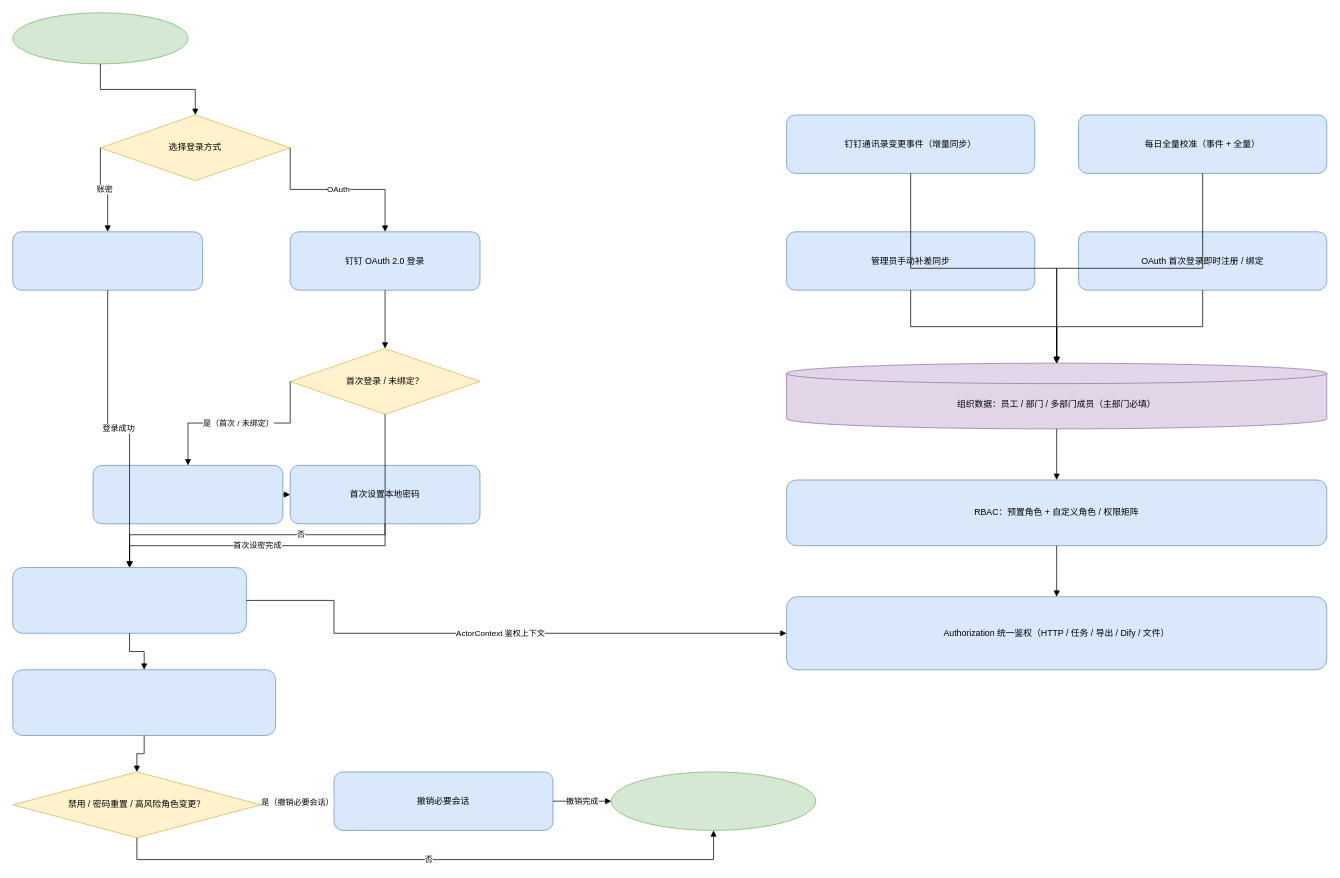
This 1340x878 diagram has some shape labels left out. The box of each missing label's shape, as (x1, y1, x2, y2) in pixels:
会话管理：会话恢复 / 退出当前或全部设备: (12, 669, 276, 735)
完成认证与授权（进入平台）: (611, 771, 816, 830)
建立会话（多设备并行登录）: (12, 567, 246, 633)
按工号绑定 / 自动注册: (92, 465, 283, 524)
访问平台（Web）: (12, 12, 188, 64)
账密登录（工号 + 密码）: (12, 231, 203, 290)
